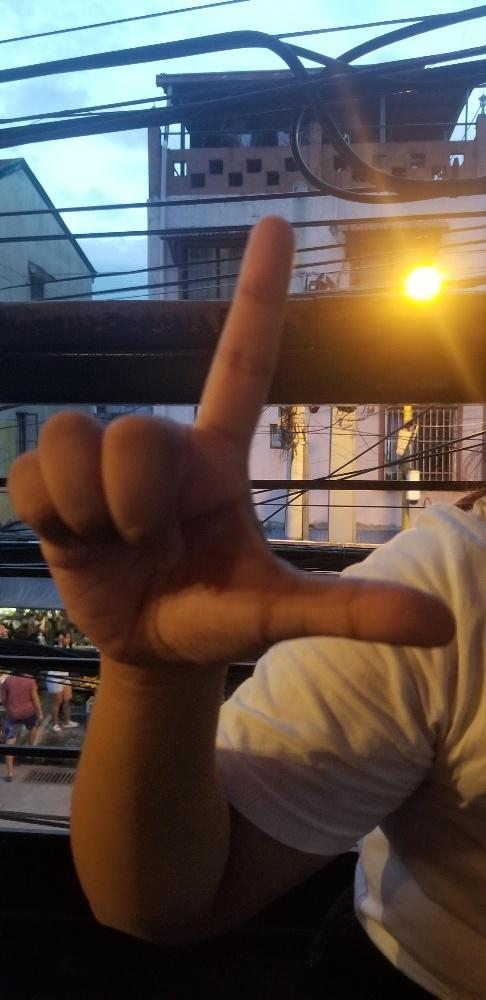l: (6, 212, 462, 668)
